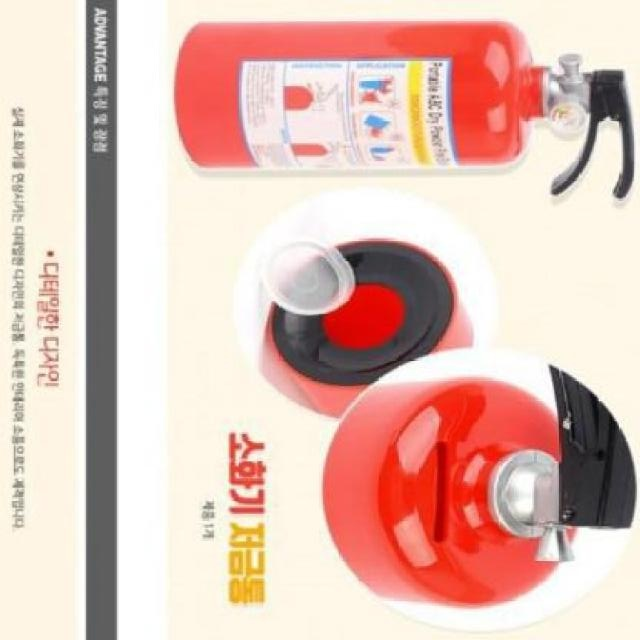fire extinguisher: (173, 19, 636, 199)
